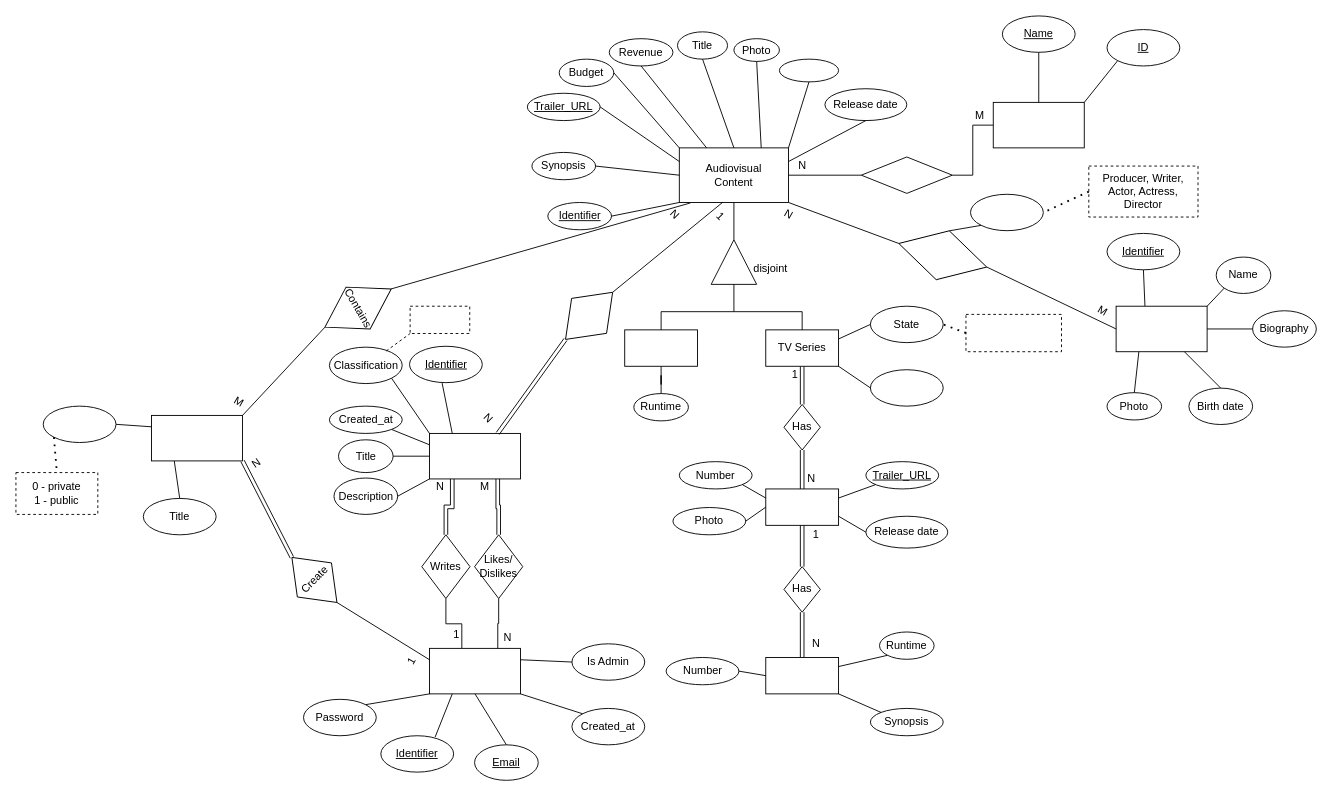
This 1332x796 diagram has some shape labels left out. The centre of each missing label's shape, as x and y in pixels:
"0 to 10" goes at (x=439, y=319).
"About" goes at (x=588, y=315).
"Active, Cancelled, Finished" goes at (x=1013, y=332).
"Age Rate" goes at (x=809, y=70).
"Categorized by" goes at (x=906, y=174).
"Composed by" goes at (x=942, y=255).
"Episode" goes at (x=802, y=675).
"Finish date" goes at (x=906, y=387).
"Genre" goes at (x=1038, y=124).
"IS A" goes at (x=733, y=261).
"Movie" goes at (x=661, y=347).
"Person" goes at (x=1161, y=328).
"Review" goes at (x=475, y=456).
"Role" goes at (x=1006, y=212).
"Season" goes at (x=802, y=506).
"User" goes at (x=475, y=670).
"Visibility" goes at (x=79, y=424).
"Watchlist" goes at (x=197, y=438).
